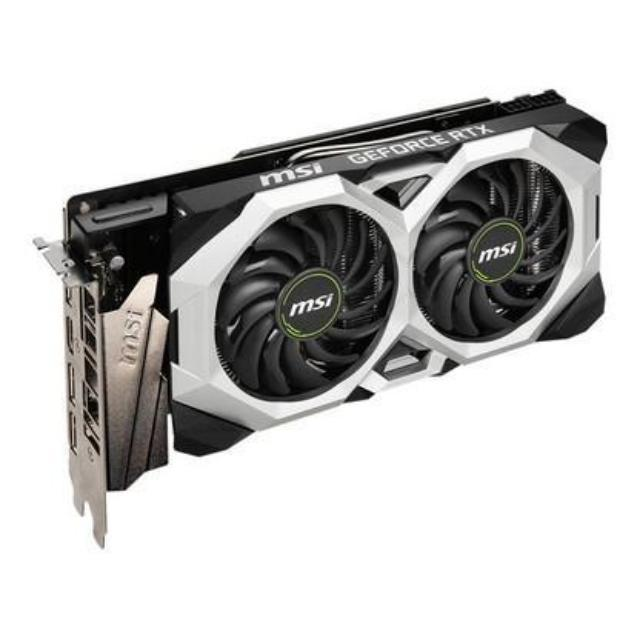GPU: (54, 79, 609, 476)
